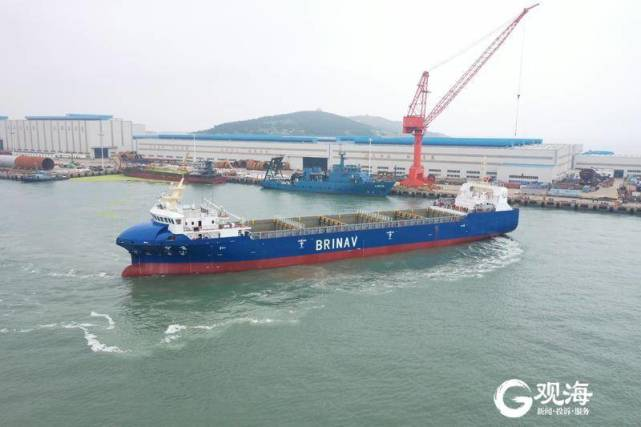Cargoship: (112, 160, 521, 281)
